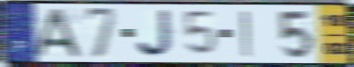5: (276, 8, 316, 60), (181, 10, 220, 58)
7: (82, 6, 118, 61)
A: (32, 7, 84, 59)
I: (239, 9, 255, 59)
J: (134, 8, 177, 59)
